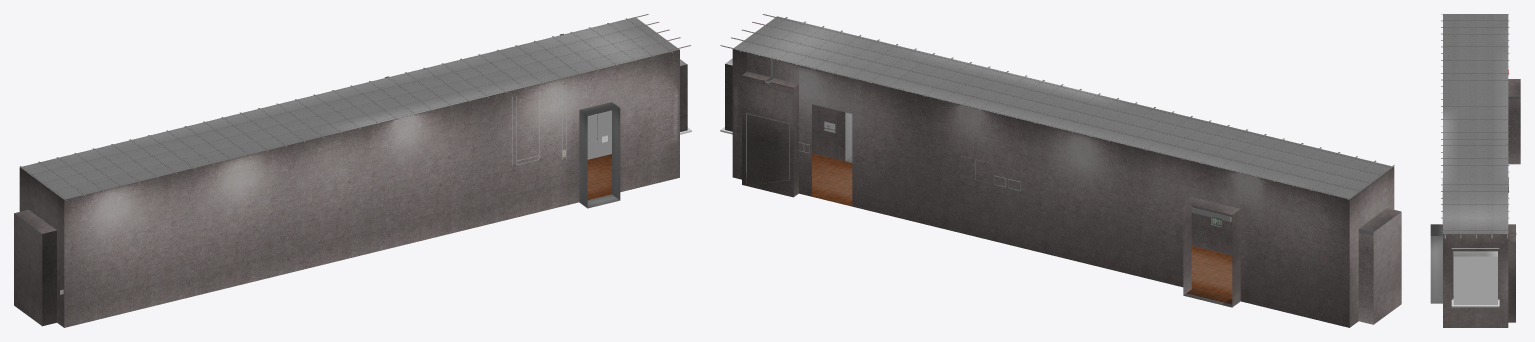
File: koridor.fbx
The picture shows the model from 3 angles, left to right: view 1: azimuth 30°, elevation 25°; view 2: azimuth 150°, elevation 25°; view 3: azimuth 270°, elevation 25°; orthographic projection. The views are drawn at different scales.
Visible parts, largest first — view 1: koridor, e_shkaf; view 2: koridor; view 3: koridor.
Part boxes in pixels (box(x1,y1,x2,y2)): koridor: box(14, 14, 691, 327); e_shkaf: box(587, 110, 611, 159); koridor: box(720, 14, 1401, 327); koridor: box(1430, 14, 1520, 327).
Bounding box in the file's own units: 14.79 × 2.81 × 2.44.
